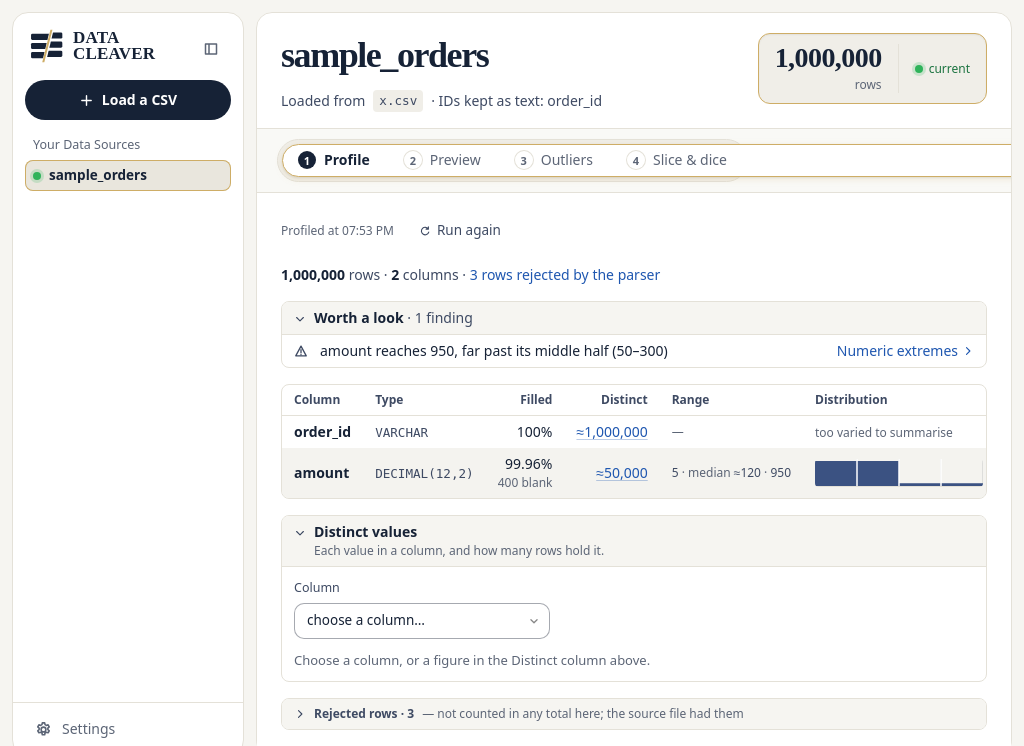
The EDA path › lists a column's distinct values from its Distinct figure
The image size is (1024, 746).
Click the button named "list the values of amount" at x=622, y=473, box x1=596 y1=463 x2=648 y2=483
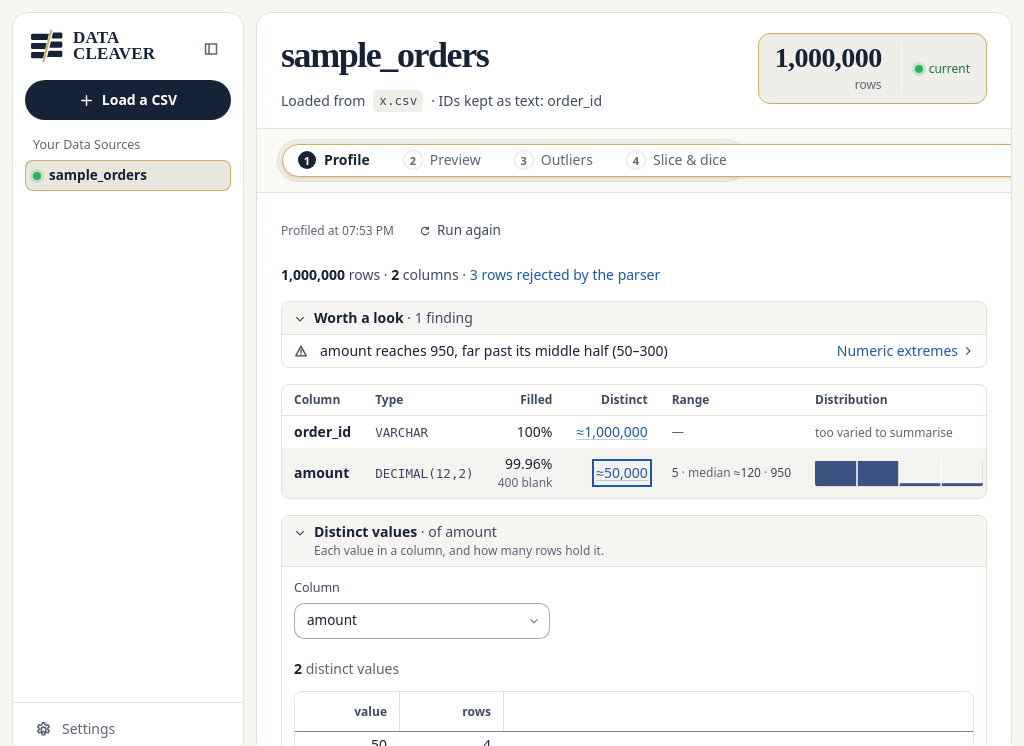
Expected: the dropdown labelled "Column" shows "amount", x1=294 y1=603 x2=550 y2=639
Expected: the column headings read "value", "rows", in this order, x1=354 y1=703 x2=387 y2=720; x1=462 y1=703 x2=491 y2=720
